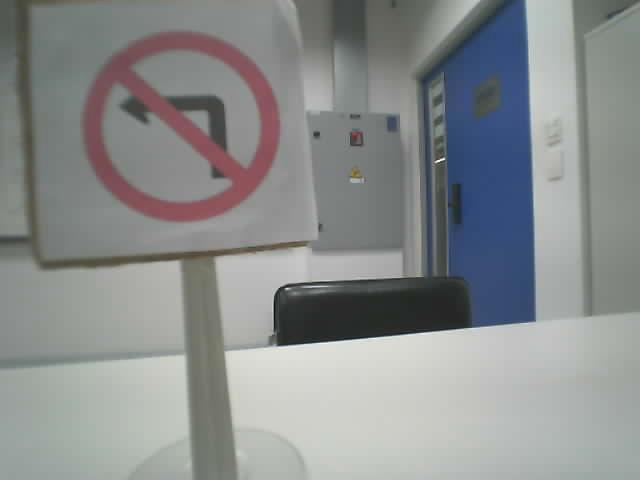R-4a_proibido-esquerda: (81, 30, 279, 219)
